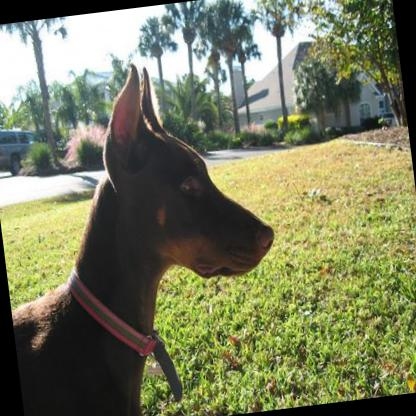Doberman: (0, 46, 294, 416)
